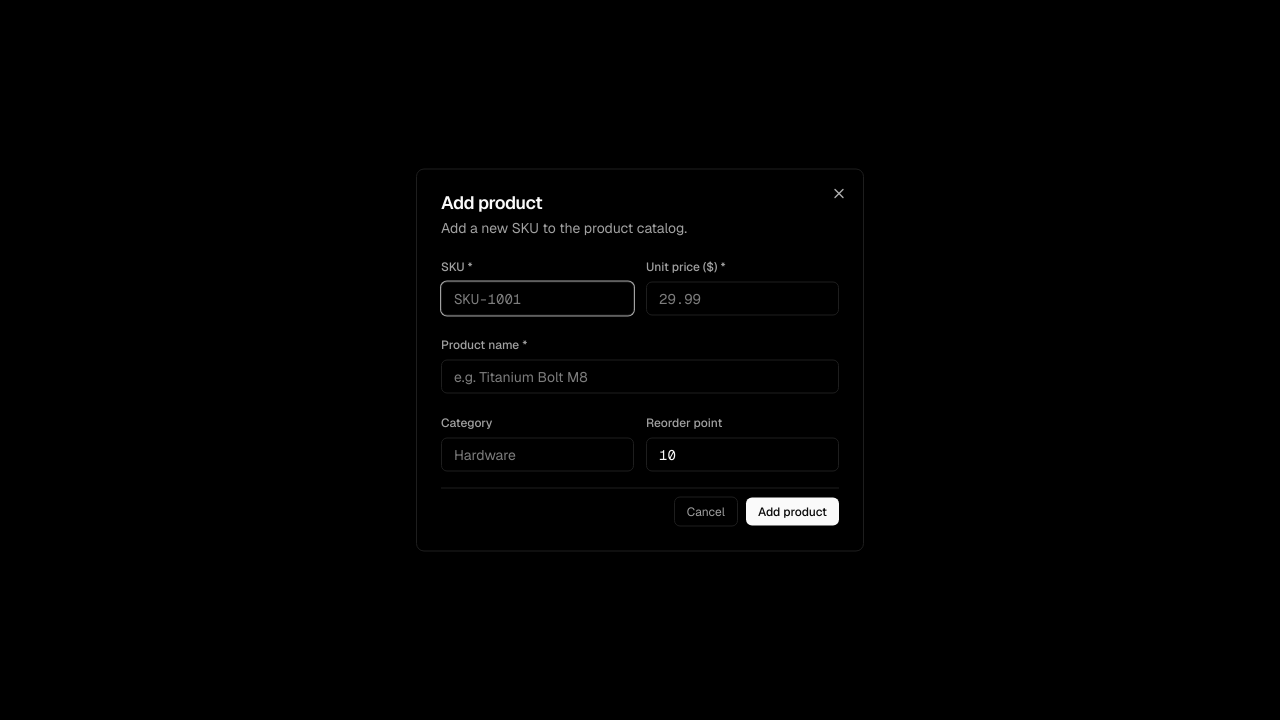
ProductFormDialog › shows validation error for missing unit price
Type "SKU-TEST" into the field with placeholder "SKU-1001". click: (538, 298)
box: x1=441 y1=282 x2=634 y2=316
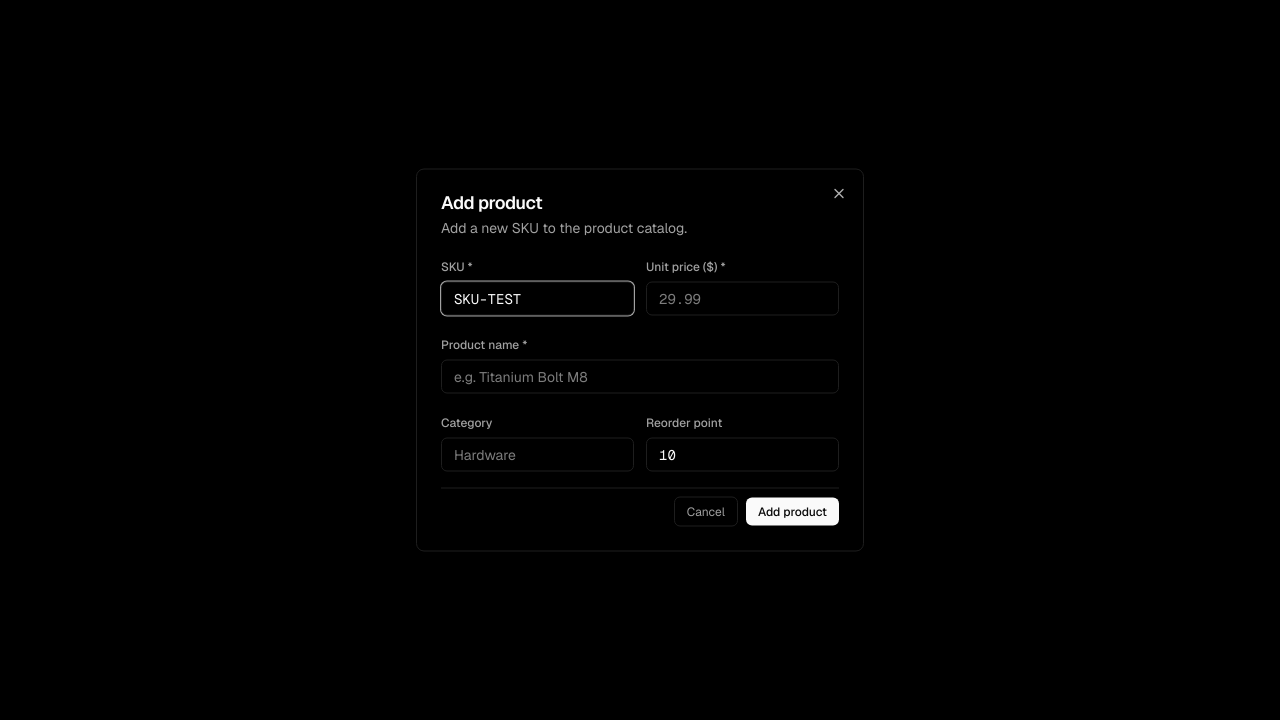
Type "Test Product" into the field with placeholder "e.g. Titanium Bolt M8". click: (640, 376)
box: x1=441 y1=360 x2=839 y2=394
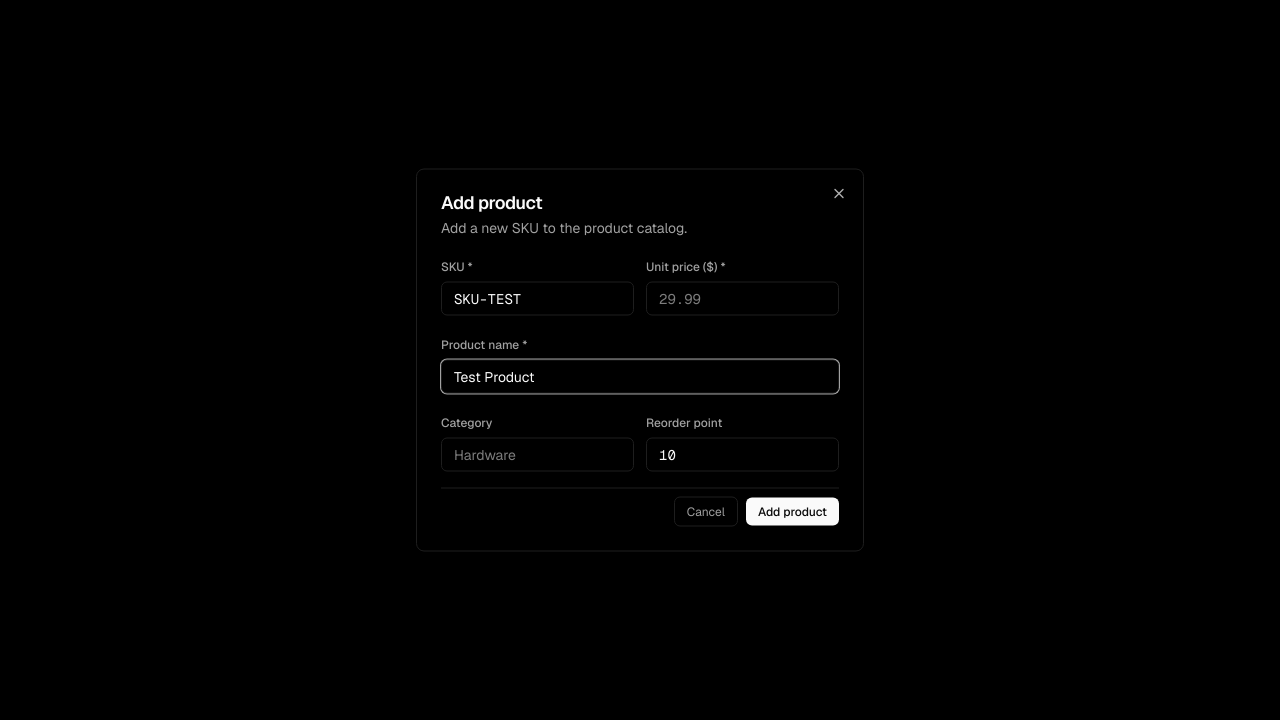
Click the button "Add product". click: (792, 512)
box: x1=746 y1=498 x2=839 y2=526
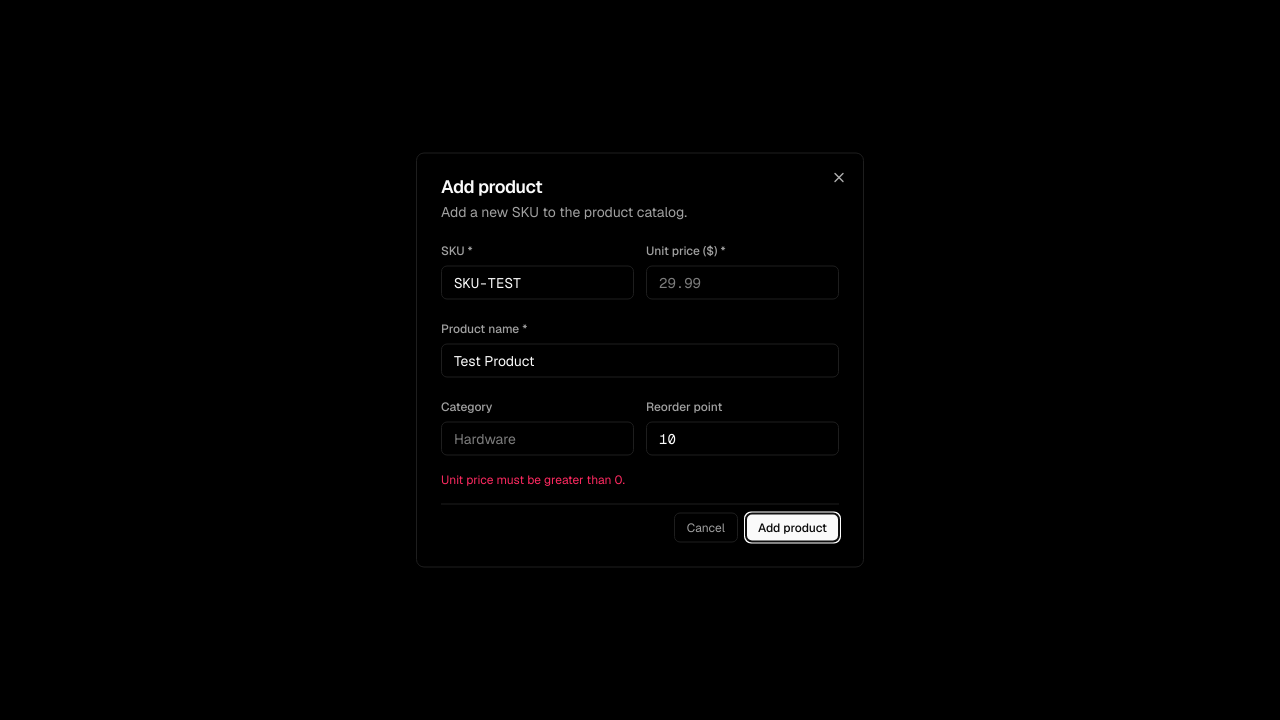
Expected: the text "Unit price must be greater than 0." is shown, x1=441 y1=472 x2=625 y2=488
